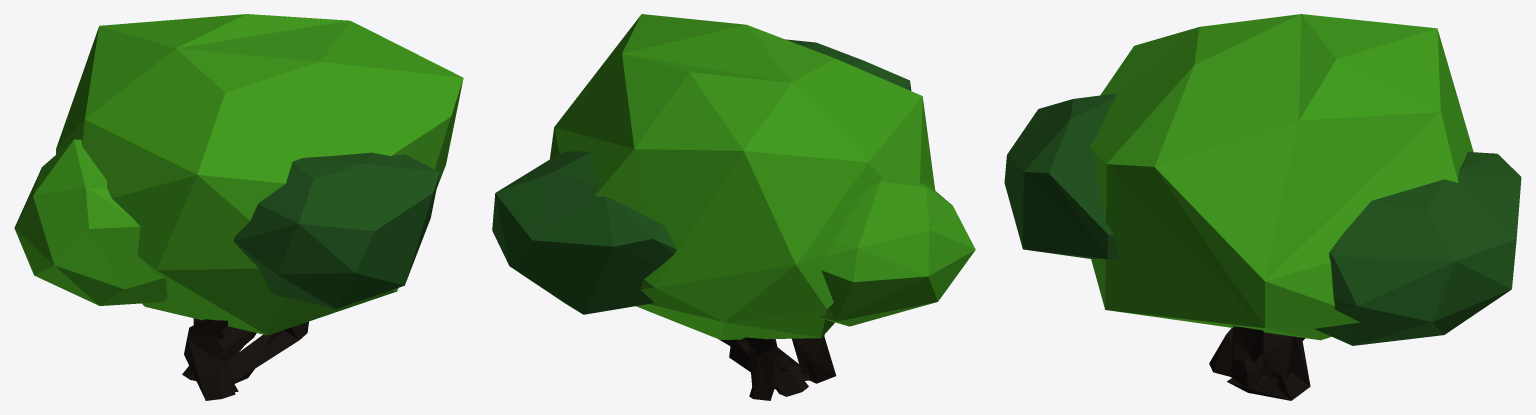
File: Bush.FBX
3 views of the same model, side by side, from view 1: azimuth 30°, elevation 25°; view 2: azimuth 150°, elevation 25°; view 3: azimuth 270°, elevation 25° (orthographic). The views are drawn at different scales.
Visible parts, largest first — view 1: Object002; view 2: Object002; view 3: Object002.
Boxes of the visible parts, bbox=[...] form: Object002: bbox=[14, 14, 463, 400]; Object002: bbox=[492, 14, 975, 400]; Object002: bbox=[1004, 14, 1521, 400].
Size of the model in its own units: 19.18 by 14.89 by 19.22.
